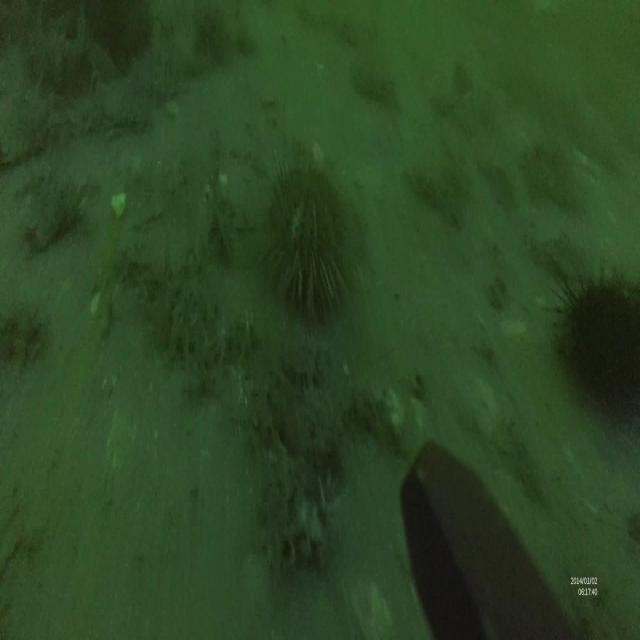echinus: (262, 160, 358, 332), (548, 261, 640, 439)
